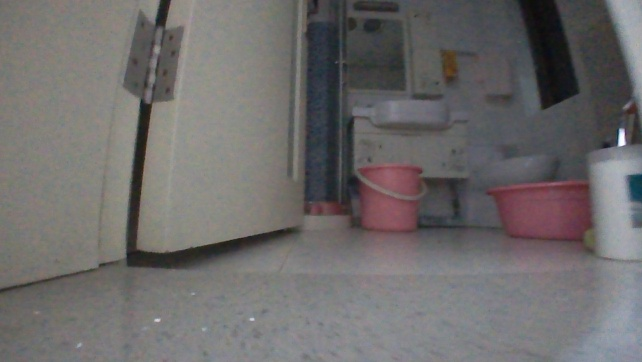door: (0, 0, 313, 296)
toilet: (462, 141, 559, 230)
